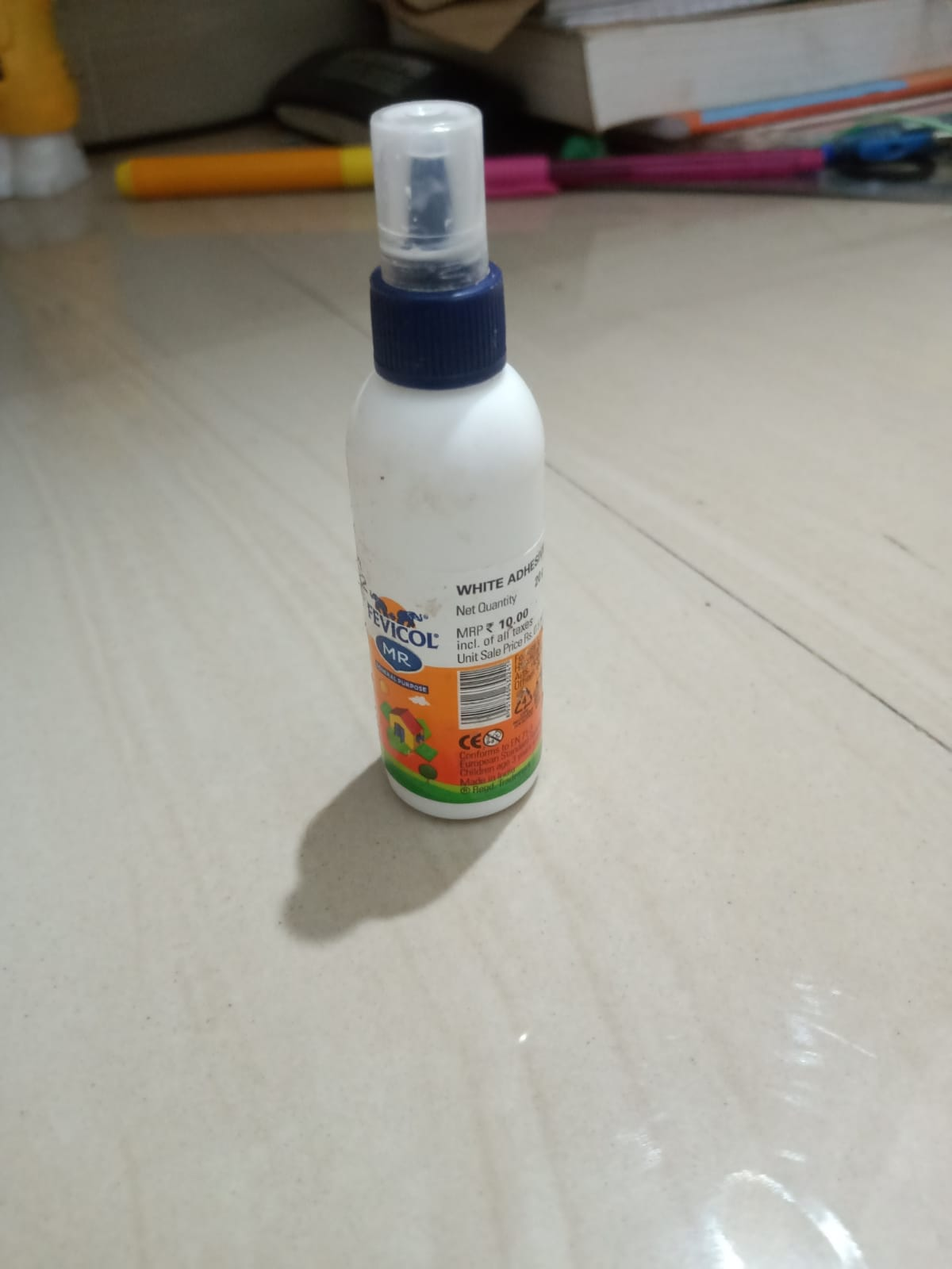plastic: (204, 88, 680, 1066)
